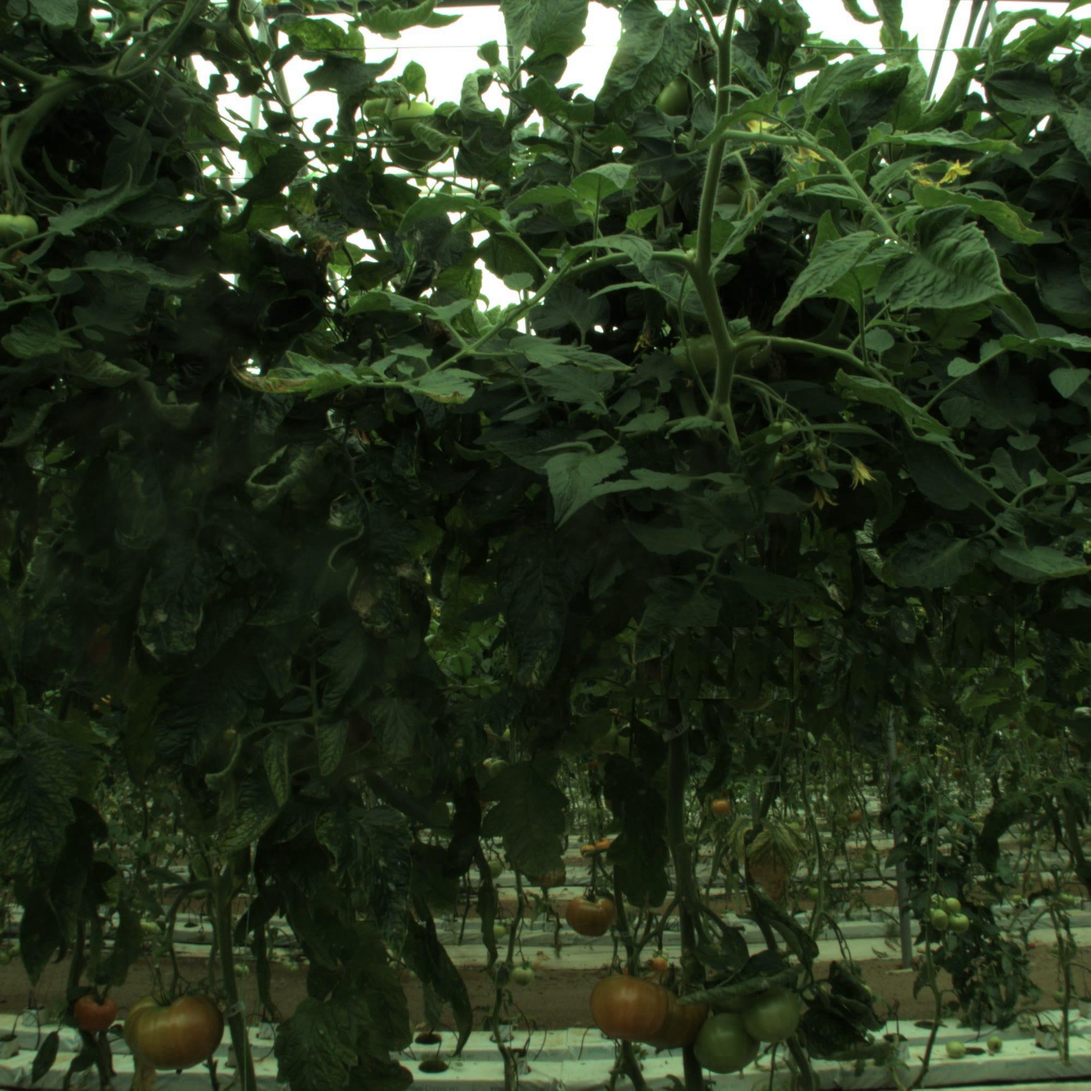fully-ripe: (592, 966, 667, 1040), (71, 987, 119, 1035)
semi-ripe: (130, 979, 222, 1070), (568, 890, 616, 938)
unripe: (694, 1010, 760, 1076), (744, 986, 800, 1042)
